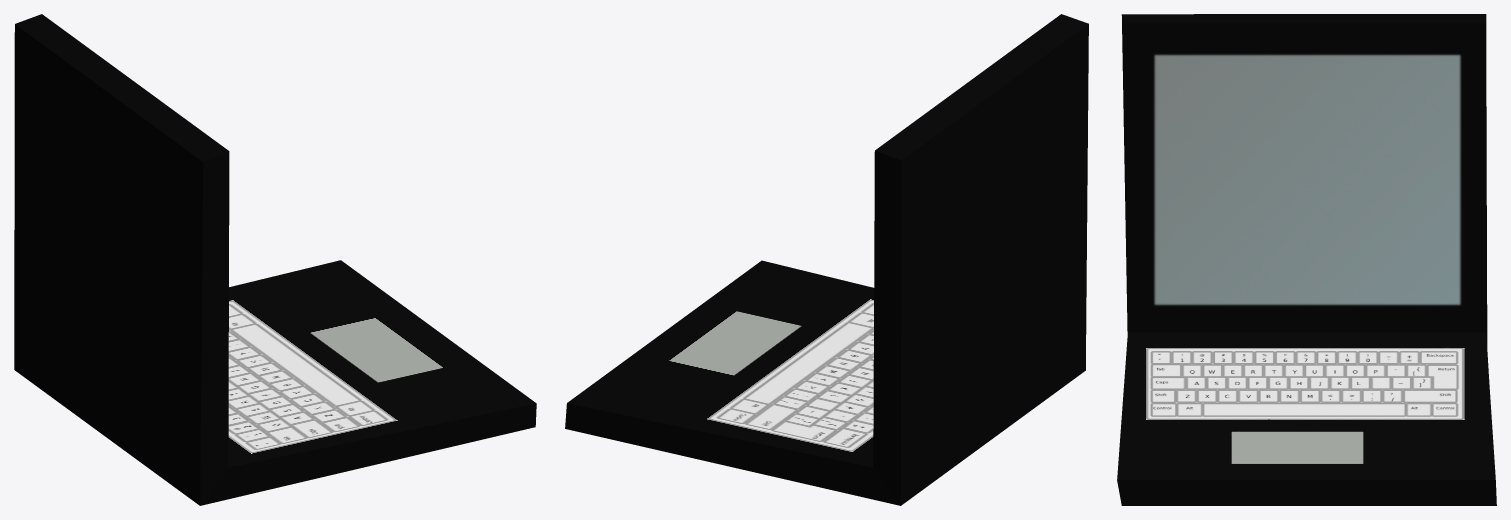
The model's file is Laptop.fbx.
3 renders of one model, left to right at view 1: azimuth 30°, elevation 25°; view 2: azimuth 150°, elevation 25°; view 3: azimuth 270°, elevation 25°, orthographic. The views are drawn at different scales.
Parts seen in each view (by area): view 1: Cube; view 2: Cube; view 3: Cube.
Part boxes in pixels (left/top/right/bottom): Cube: left=14, top=14, right=536, bottom=505; Cube: left=565, top=14, right=1088, bottom=505; Cube: left=1117, top=14, right=1496, bottom=505.
Bounding box in the file's own units: 196 × 197 × 201.
